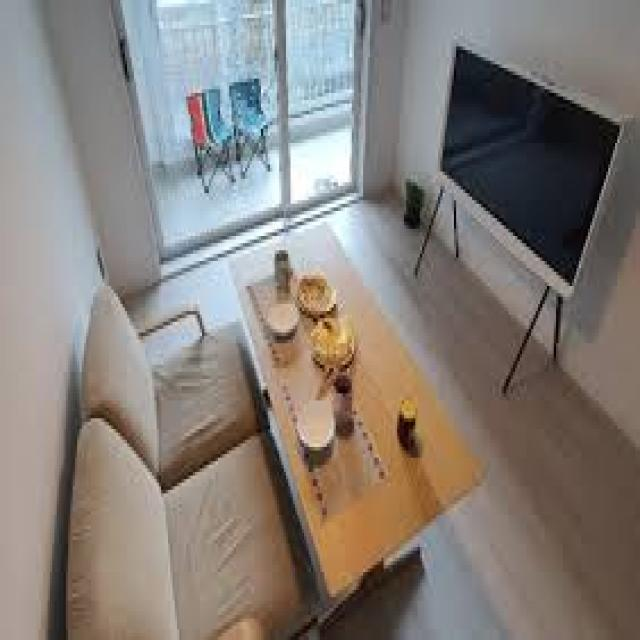Chair: (181, 81, 231, 188), (232, 68, 274, 179)
Sofa: (63, 265, 301, 640)
Table: (224, 221, 488, 583)
tv: (434, 37, 624, 303)
window: (119, 1, 364, 242)
